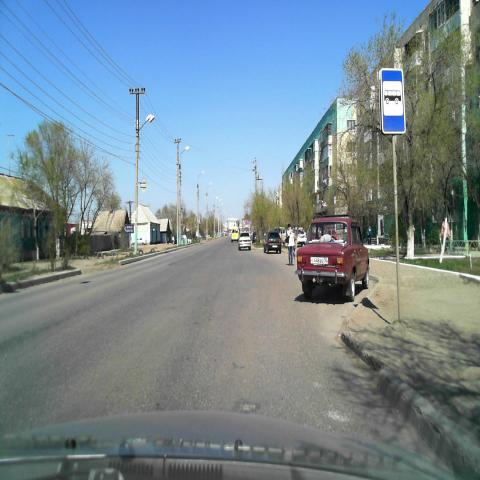5_16: (382, 68, 406, 136)
